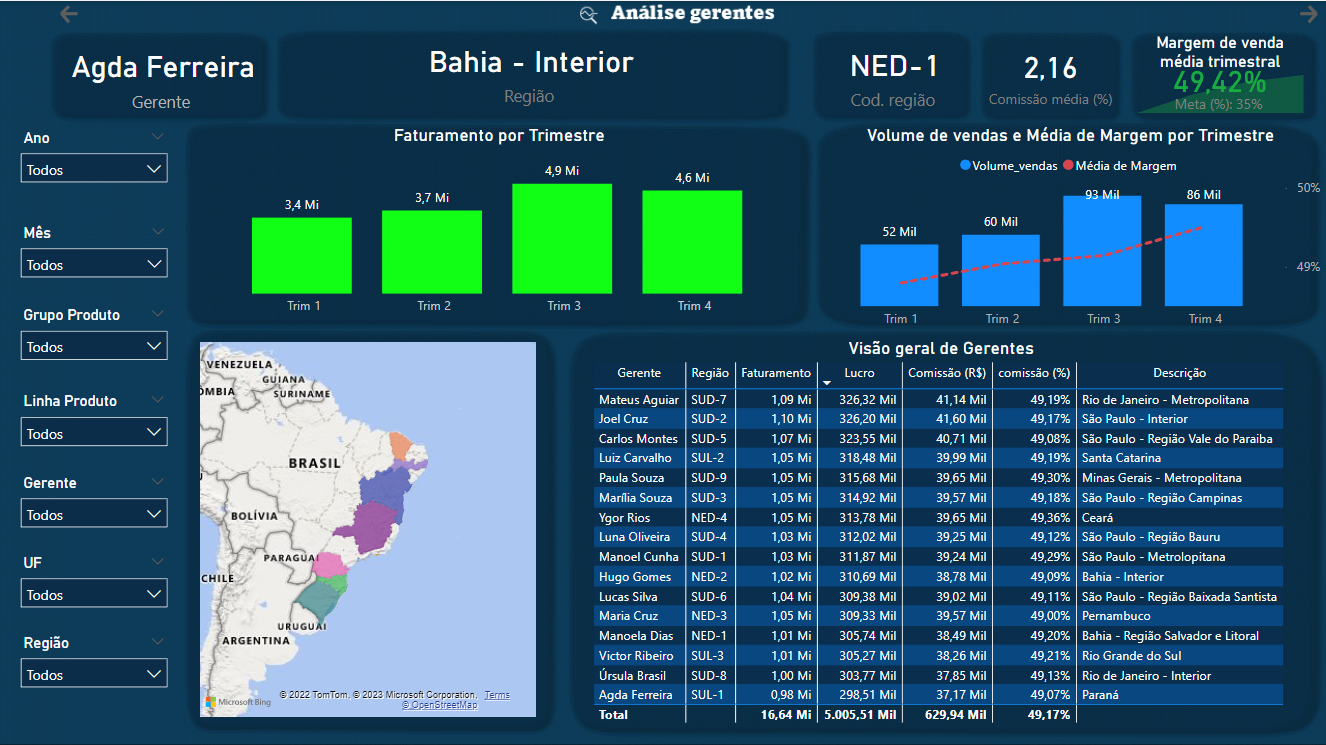

The page's visual inventory and layout, read from the dashboard file:
{"tool":"powerbi","page":{"name":"Dash_gerentes","canvas":[1280,720],"ordinal":2},"visuals":[{"type":"tableEx","title":"Visão geral de Gerentes ","fields":{"Values":["Dim_regional.Gerente Regional","Dim_regional.Regional","Medidas.Faturamento","Medidas.Lucro","Medidas.Comissao_regional","Avg(Fato_vendas.Margem)","Dim_regional.Descrição"]},"box":[566.8,324.4,682.6,382.3],"z":0},{"type":"card","fields":{"Values":["Min(Dim_regional.Gerente Regional)"]},"box":[51.9,32.6,211.1,79.6],"z":1000},{"type":"card","fields":{"Values":["Min(Dim_regional.Descrição)"]},"box":[273.8,20.5,477.6,92.9],"z":2000},{"type":"card","fields":{"Values":["Min(Dim_regional.Regional)"]},"box":[791.2,31.4,144.7,79.6],"z":3000},{"type":"clusteredColumnChart","fields":{"Y":["Medidas.Faturamento"],"Category":["Tb_calendario.Date.Variation.Hierarquia de datas.Trimestre"]},"box":[188.1,119.4,587.3,193],"z":4000},{"type":"filledMap","fields":{"Category":["Dim_regional.Descrição"],"Series":["Dim_regional.Regional"]},"box":[188.1,324.4,334.1,371.5],"z":5000},{"type":"card","fields":{"Values":["Avg(Fato_vendas.Comissao_regional)"]},"box":[946.7,31.4,133.9,79.6],"z":6000},{"type":"lineStackedColumnComboChart","title":"Volume de vendas e Média de Margem por Trimestre","fields":{"Category":["Tb_calendario.Date.Variation.Hierarquia de datas.Trimestre"],"Y":["Medidas.Volume_vendas"],"Y2":["Avg(Fato_vendas.Margem)"]},"box":[786.3,119.4,493.3,205],"z":7000},{"type":"slicer","fields":{"Values":["Tb_calendario.Date.Variation.Hierarquia de datas.Ano"]},"box":[9.4,117.7,161.6,70],"z":8000},{"type":"slicer","fields":{"Values":["Tb_calendario.Date.Variation.Hierarquia de datas.Mês"]},"box":[9.4,209.4,162,70],"z":9000},{"type":"slicer","fields":{"Values":["Dim_produtos.Grupo_Produto"]},"box":[9.4,289,161.6,70],"z":10000},{"type":"slicer","fields":{"Values":["Dim_produtos.Linha_Produto"]},"box":[9.4,372.2,161.6,70],"z":11000},{"type":"slicer","fields":{"Values":["Dim_regional.Gerente Regional"]},"box":[9.4,450.6,161.6,70],"z":12000},{"type":"slicer","fields":{"Values":["Dim_regional.UF"]},"box":[9.4,527.8,161.6,70],"z":13000},{"type":"slicer","fields":{"Values":["Dim_regional.Regional"]},"box":[9.4,604.9,161.6,70],"z":14000},{"type":"kpi","title":"Margem de venda média trimestral","fields":{"Indicator":["Avg(Fato_vendas.Margem)"],"Goal":["Medidas.Meta_margem"],"TrendLine":["Tb_calendario.Date.Variation.Hierarquia de datas.Trimestre"]},"box":[1091.5,31.4,171.3,82],"z":15000},{"type":"actionButton","box":[1249.4,0,30.2,25.3],"z":16000},{"type":"actionButton","box":[54.3,0,26.5,25.3],"z":17000}]}

Visuals, with their boxes in screenshot pixels (x1, y1, x2, y2), scaled from the page's 1280x720 canvas onto the 1326x745 screenshot:
"Visão geral de Gerentes " tableEx: [left=587, top=336, right=1294, bottom=731]
card - Min(Dim_regional.Gerente Regional): [left=54, top=34, right=272, bottom=116]
card - Min(Dim_regional.Descrição): [left=284, top=21, right=778, bottom=117]
card - Min(Dim_regional.Regional): [left=820, top=32, right=970, bottom=115]
clusteredColumnChart - Medidas.Faturamento x Tb_calendario.Date.Variation.Hierarquia de datas.Trimestre: [left=195, top=124, right=803, bottom=323]
filledMap - Dim_regional.Descrição x Dim_regional.Regional: [left=195, top=336, right=541, bottom=720]
card - Avg(Fato_vendas.Comissao_regional): [left=981, top=32, right=1119, bottom=115]
"Volume de vendas e Média de Margem por Trimestre" lineStackedColumnComboChart: [left=815, top=124, right=1325, bottom=336]
slicer - Tb_calendario.Date.Variation.Hierarquia de datas.Ano: [left=10, top=122, right=177, bottom=194]
slicer - Tb_calendario.Date.Variation.Hierarquia de datas.Mês: [left=10, top=217, right=178, bottom=289]
slicer - Dim_produtos.Grupo_Produto: [left=10, top=299, right=177, bottom=371]
slicer - Dim_produtos.Linha_Produto: [left=10, top=385, right=177, bottom=458]
slicer - Dim_regional.Gerente Regional: [left=10, top=466, right=177, bottom=539]
slicer - Dim_regional.UF: [left=10, top=546, right=177, bottom=619]
slicer - Dim_regional.Regional: [left=10, top=626, right=177, bottom=698]
"Margem de venda média trimestral" kpi: [left=1131, top=32, right=1308, bottom=117]
actionButton: [left=1294, top=0, right=1325, bottom=26]
actionButton: [left=56, top=0, right=84, bottom=26]
